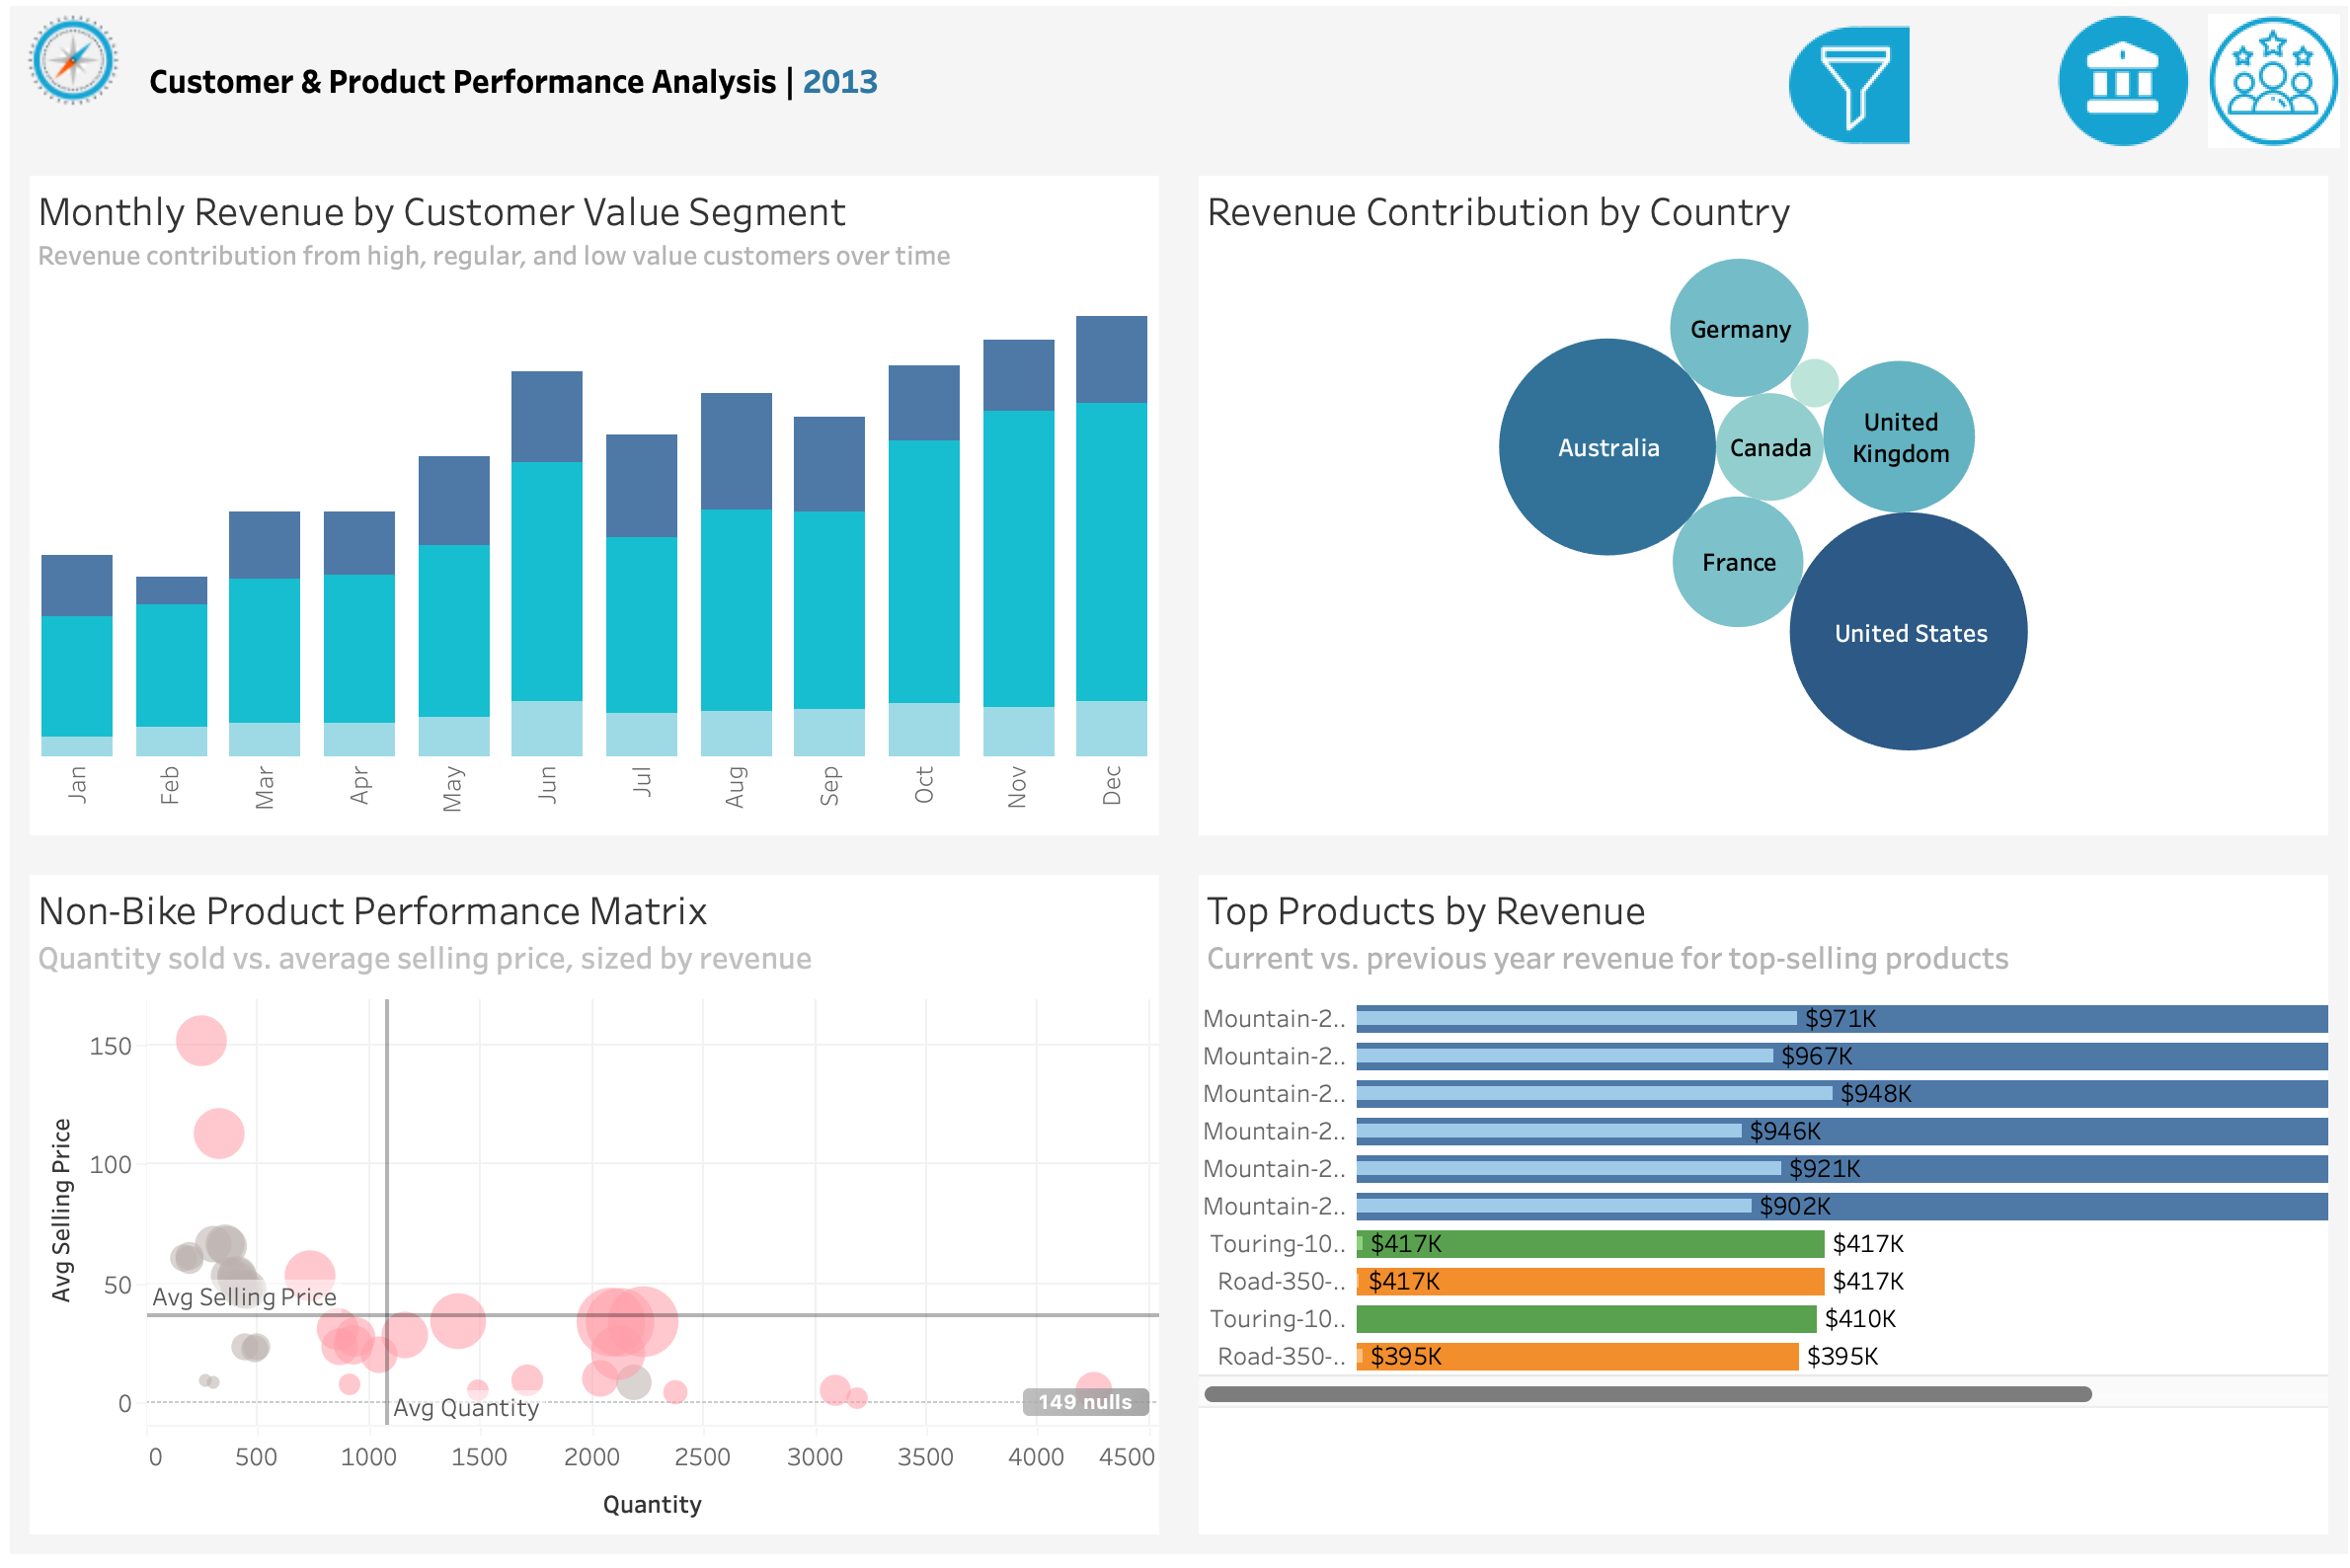

What the dashboard file says about the page in this screenshot:
{"tool":"tableau","page":{"name":"Customer & Product Performance Analysis","canvas":[1000,1000],"units":"permille","ordinal":0},"visuals":[{"type":"image","param":"Image/Icon - Logo.png","box":[6.7,10,53.3,95]},{"type":"text","box":[60,10,806.6,95]},{"type":"dashboard-object","box":[866.7,10,64.2,95]},{"type":"dashboard-object","box":[930.8,10,62.5,95]},{"type":"dashboard-object","box":[751.7,21.2,60.8,78.8]},{"type":"worksheet","title":"Monthly Revenue by Customer Value Segment","mark":"Bar","rows":["Calculation_5273077164257281"],"cols":["order_date"],"box":[6.7,105,493.3,442.5]},{"type":"worksheet","title":"Revenue by Country","mark":"Circle","box":[500,105,493.3,442.5]},{"type":"worksheet","title":"Non-Bike Product Performance Matrix","mark":"Circle","rows":["Calculation_0028407109034000"],"cols":["quantity"],"box":[6.7,547.5,493.3,442.5]},{"type":"worksheet","title":"Top Products by Revenue","mark":"Bar","rows":["product_name"],"cols":["Calculation_5273077164257281","Calculation_5273077164478466"],"box":[500,547.5,493.3,442.5]}]}

Visuals, with their boxes on the dashboard's canvas, which has no fixed pixel size, in thousandths of its width and height (x1, y1, x2, y2). These are canvas units, not pixel positions in the 2350x1568 screenshot, which may show the page scaled, cropped or inside an application window:
image: [left=7, top=10, right=60, bottom=105]
text: [left=60, top=10, right=867, bottom=105]
dashboard-object: [left=867, top=10, right=931, bottom=105]
dashboard-object: [left=931, top=10, right=993, bottom=105]
dashboard-object: [left=752, top=21, right=812, bottom=100]
"Monthly Revenue by Customer Value Segment" worksheet (Bar marks): [left=7, top=105, right=500, bottom=548]
"Revenue by Country" worksheet (Circle marks): [left=500, top=105, right=993, bottom=548]
"Non-Bike Product Performance Matrix" worksheet (Circle marks): [left=7, top=548, right=500, bottom=990]
"Top Products by Revenue" worksheet (Bar marks): [left=500, top=548, right=993, bottom=990]
